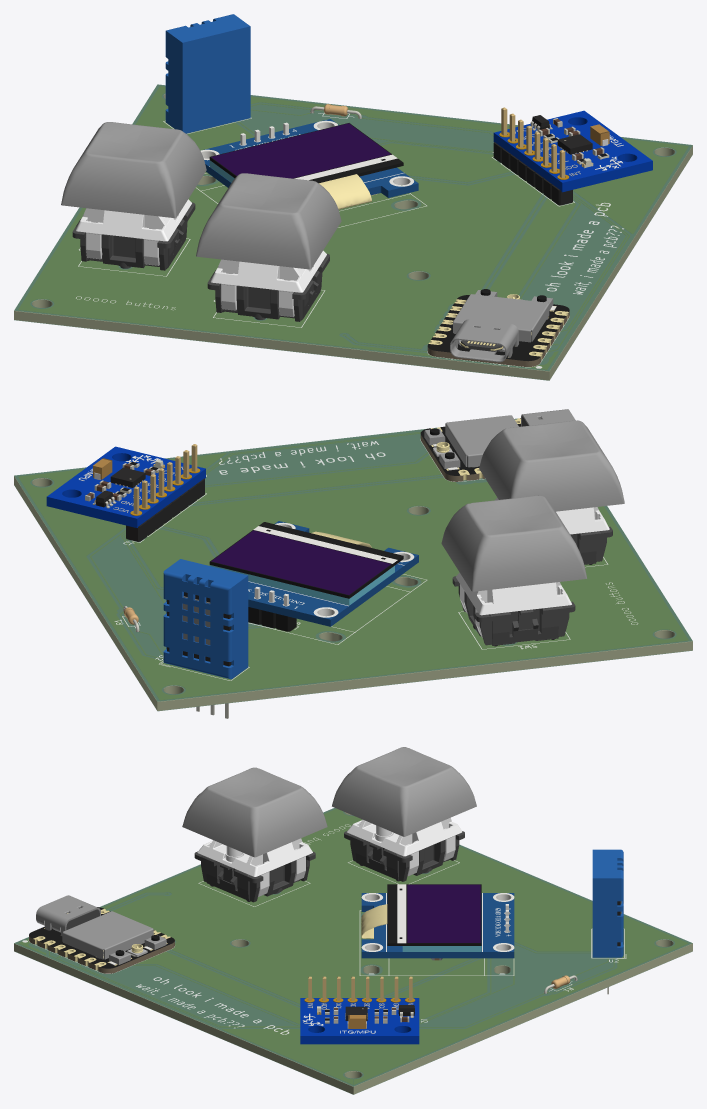
The model's file is pcb.glb.
3 views of the same model, one above another, from view 1: azimuth 30°, elevation 25°; view 2: azimuth 150°, elevation 25°; view 3: azimuth 270°, elevation 25° (orthographic). The views are drawn at different scales.
Visible parts, largest first — view 1: =>[0:1:1:98], =>[0:1:1:95], =>[0:1:1:94] (×2), =>[0:1:1:100], =>0:1:1:83, =>[0:1:1:35], NAUO3 (×2), NAUO1 (×2), PCB, =>0:1:1:33, =>[0:1:1:39], Shield:1 (+3 smaller); view 2: =>[0:1:1:98], =>[0:1:1:95], =>[0:1:1:94] (×2), =>[0:1:1:100], =>0:1:1:83, =>[0:1:1:35], PCB, NAUO1 (×2), NAUO3 (×2), =>[0:1:1:39], Shield:1, =>[0:1:1:96] (+5 smaller); view 3: =>[0:1:1:98], =>[0:1:1:95], =>[0:1:1:100], =>[0:1:1:94] (×2), =>0:1:1:83, NAUO1 (×2), NAUO3 (×2), PCB, =>[0:1:1:35], Shield:1, =>0:1:1:33, =>[0:1:1:96] (+3 smaller).
Part boxes in pixels (x1=…): =>[0:1:1:98]: x1=14, y1=84, x2=692, y2=371; =>[0:1:1:95]: x1=19, y1=87, x2=687, y2=369; =>[0:1:1:94] (×2): x1=61, y1=122, x2=341, y2=269; =>[0:1:1:100]: x1=14, y1=85, x2=692, y2=380; =>0:1:1:83: x1=200, y1=119, x2=418, y2=209; =>[0:1:1:35]: x1=165, y1=14, x2=250, y2=133; NAUO3 (×2): x1=76, y1=199, x2=326, y2=316; NAUO1 (×2): x1=72, y1=202, x2=329, y2=321; PCB: x1=493, y1=110, x2=652, y2=192; =>0:1:1:33: x1=427, y1=295, x2=569, y2=366; =>[0:1:1:39]: x1=493, y1=107, x2=572, y2=205; Shield:1: x1=453, y1=294, x2=549, y2=342; =>[0:1:1:98]: x1=14, y1=418, x2=692, y2=701; =>[0:1:1:95]: x1=19, y1=433, x2=687, y2=699; =>[0:1:1:94] (×2): x1=441, y1=420, x2=624, y2=591; =>[0:1:1:100]: x1=14, y1=430, x2=692, y2=710; =>0:1:1:83: x1=209, y1=521, x2=418, y2=626; =>[0:1:1:35]: x1=163, y1=559, x2=248, y2=718; PCB: x1=46, y1=446, x2=205, y2=527; NAUO1 (×2): x1=452, y1=526, x2=612, y2=646; NAUO3 (×2): x1=456, y1=497, x2=609, y2=637; =>[0:1:1:39]: x1=126, y1=444, x2=204, y2=541; Shield:1: x1=445, y1=415, x2=518, y2=467; =>[0:1:1:96]: x1=114, y1=439, x2=638, y2=680; =>[0:1:1:98]: x1=14, y1=807, x2=692, y2=1086; =>[0:1:1:95]: x1=19, y1=809, x2=687, y2=1083; =>[0:1:1:100]: x1=14, y1=808, x2=692, y2=1094; =>[0:1:1:94] (×2): x1=182, y1=747, x2=476, y2=857; =>0:1:1:83: x1=361, y1=884, x2=514, y2=960; NAUO1 (×2): x1=194, y1=831, x2=464, y2=902; NAUO3 (×2): x1=197, y1=818, x2=462, y2=896; PCB: x1=300, y1=998, x2=419, y2=1044; =>[0:1:1:35]: x1=592, y1=849, x2=623, y2=994; Shield:1: x1=62, y1=911, x2=153, y2=959; =>0:1:1:33: x1=29, y1=907, x2=174, y2=973; =>[0:1:1:96]: x1=22, y1=824, x2=626, y2=1034.
Size of the model in its own units: 0.12 by 0.0267 by 0.12.
